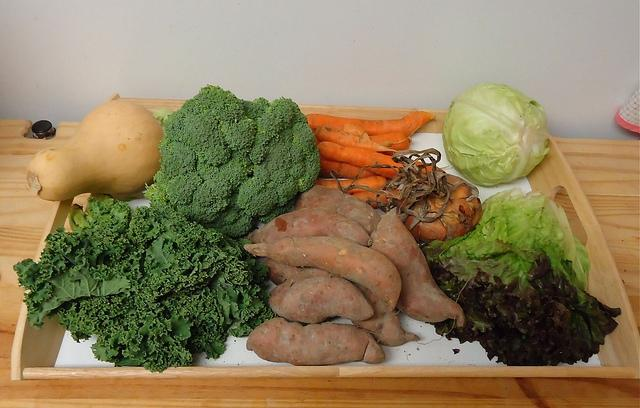broccoli: (142, 84, 322, 237), (221, 119, 258, 156)
carrot: (317, 142, 446, 180), (306, 110, 436, 138), (314, 125, 398, 152), (318, 156, 381, 180), (315, 176, 387, 195), (352, 190, 406, 208), (369, 132, 406, 148)
potato: (264, 257, 419, 347), (244, 237, 402, 312), (368, 212, 464, 327), (247, 317, 386, 366), (268, 268, 374, 324), (244, 207, 374, 247), (294, 185, 382, 237)
